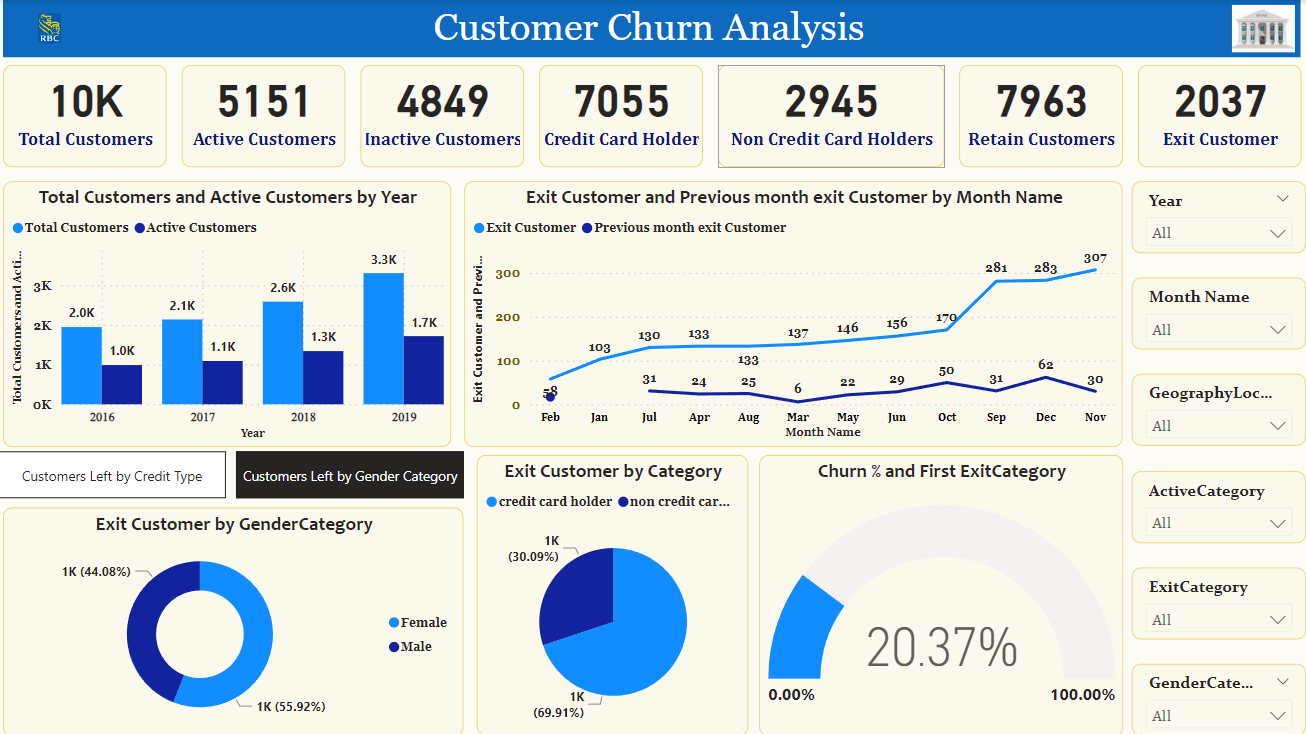

The dashboard page shown, as its layout file describes it:
{"tool":"powerbi","page":{"name":"Home","canvas":[1280,720],"ordinal":0},"visuals":[{"type":"card","fields":{"Values":["Calculations.Total Customers"]},"box":[5.3,64,160,100],"z":0},{"type":"card","fields":{"Values":["Calculations.Active Customers"]},"box":[180,64,160,100],"z":1000},{"type":"card","fields":{"Values":["Calculations.Inactive Customers"]},"box":[354.7,64,160,100],"z":2000},{"type":"card","fields":{"Values":["Calculations.Credit Card Holder"]},"box":[529.3,64,160,100],"z":3000},{"type":"card","fields":{"Values":["Calculations.Non Credit Card Holders"]},"box":[704,64,221.3,100],"z":4000},{"type":"card","fields":{"Values":["Calculations.Exit Customer"]},"box":[1114.7,64,160,100],"z":5000},{"type":"card","fields":{"Values":["Calculations.Retain Customers"]},"box":[940,64,160,100],"z":6000},{"type":"clusteredColumnChart","fields":{"Y":["Calculations.Total Customers","Calculations.Active Customers"],"Category":["Date Master.Year"]},"box":[5.3,177.3,438.7,260],"z":7000},{"type":"lineChart","fields":{"Y":["Calculations.Exit Customer","Calculations.Previous month exit Customer"],"Category":["Date Master.Month Name"]},"box":[456,177.3,644,260],"z":8000},{"type":"slicer","fields":{"Values":["Date Master.Year"]},"box":[1109.3,177.3,170.7,70.7],"z":9000},{"type":"donutChart","fields":{"Y":["Calculations.Exit Customer"],"Series":["Gender.GenderCategory"]},"box":[5.3,496,450.7,224],"z":10000},{"type":"pieChart","fields":{"Category":["Credit Card.Category"],"Y":["Calculations.Exit Customer"]},"box":[468,445.3,265.3,274.7],"z":12000},{"type":"bookmarkNavigator","box":[0,441.7,456.7,46.7],"z":13000},{"type":"shape","box":[5.3,0,1269.3,56],"z":14000},{"type":"textbox","box":[5.3,0,1264,56],"z":15000},{"type":"image","box":[0,0,100,56],"z":16000},{"type":"slicer","fields":{"Values":["Date Master.Month Name"]},"box":[1109.3,271.7,170.7,70.7],"z":17000},{"type":"slicer","fields":{"Values":["Geography.GeographyLocation"]},"box":[1109.3,366.1,170.7,70.7],"z":18000},{"type":"slicer","fields":{"Values":["Active Customer.ActiveCategory"]},"box":[1109.3,460.5,170.7,70.7],"z":19000},{"type":"slicer","fields":{"Values":["Exit Customer.ExitCategory"]},"box":[1109.3,554.9,170.7,70.7],"z":20000},{"type":"slicer","fields":{"Values":["Gender.GenderCategory"]},"box":[1109.3,649.3,170.7,70.7],"z":21000},{"type":"image","box":[1195.6,0,83.8,55.9],"z":23000},{"type":"gauge","fields":{"Y":["Calculations.Churn %"]},"box":[744.7,445.1,355.8,275.1],"z":23001}]}

Visuals, with their boxes in screenshot pixels (x1, y1, x2, y2), scaled from the page's 1280x720 canvas onto the 1306x734 screenshot:
card - Calculations.Total Customers: 5:65:169:167
card - Calculations.Active Customers: 184:65:347:167
card - Calculations.Inactive Customers: 362:65:525:167
card - Calculations.Credit Card Holder: 540:65:703:167
card - Calculations.Non Credit Card Holders: 718:65:944:167
card - Calculations.Exit Customer: 1137:65:1301:167
card - Calculations.Retain Customers: 959:65:1122:167
clusteredColumnChart - Calculations.Total Customers x Calculations.Active Customers: 5:181:453:446
lineChart - Calculations.Exit Customer x Calculations.Previous month exit Customer: 465:181:1122:446
slicer - Date Master.Year: 1132:181:1305:253
donutChart - Calculations.Exit Customer x Gender.GenderCategory: 5:506:465:733
pieChart - Credit Card.Category x Calculations.Exit Customer: 478:454:748:733
bookmarkNavigator: 0:450:466:498
shape: 5:0:1300:57
textbox: 5:0:1295:57
image: 0:0:102:57
slicer - Date Master.Month Name: 1132:277:1305:349
slicer - Geography.GeographyLocation: 1132:373:1305:445
slicer - Active Customer.ActiveCategory: 1132:469:1305:542
slicer - Exit Customer.ExitCategory: 1132:566:1305:638
slicer - Gender.GenderCategory: 1132:662:1305:733
image: 1220:0:1305:57
gauge - Calculations.Churn %: 760:454:1123:733
